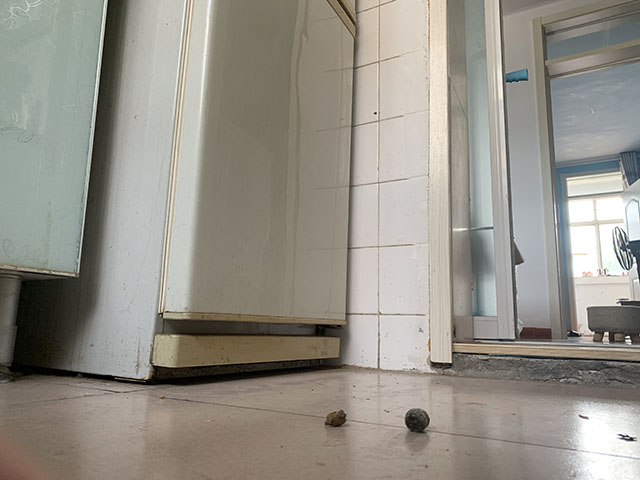feces: (405, 408, 431, 433), (323, 409, 347, 427)
stool: (587, 305, 640, 346)
